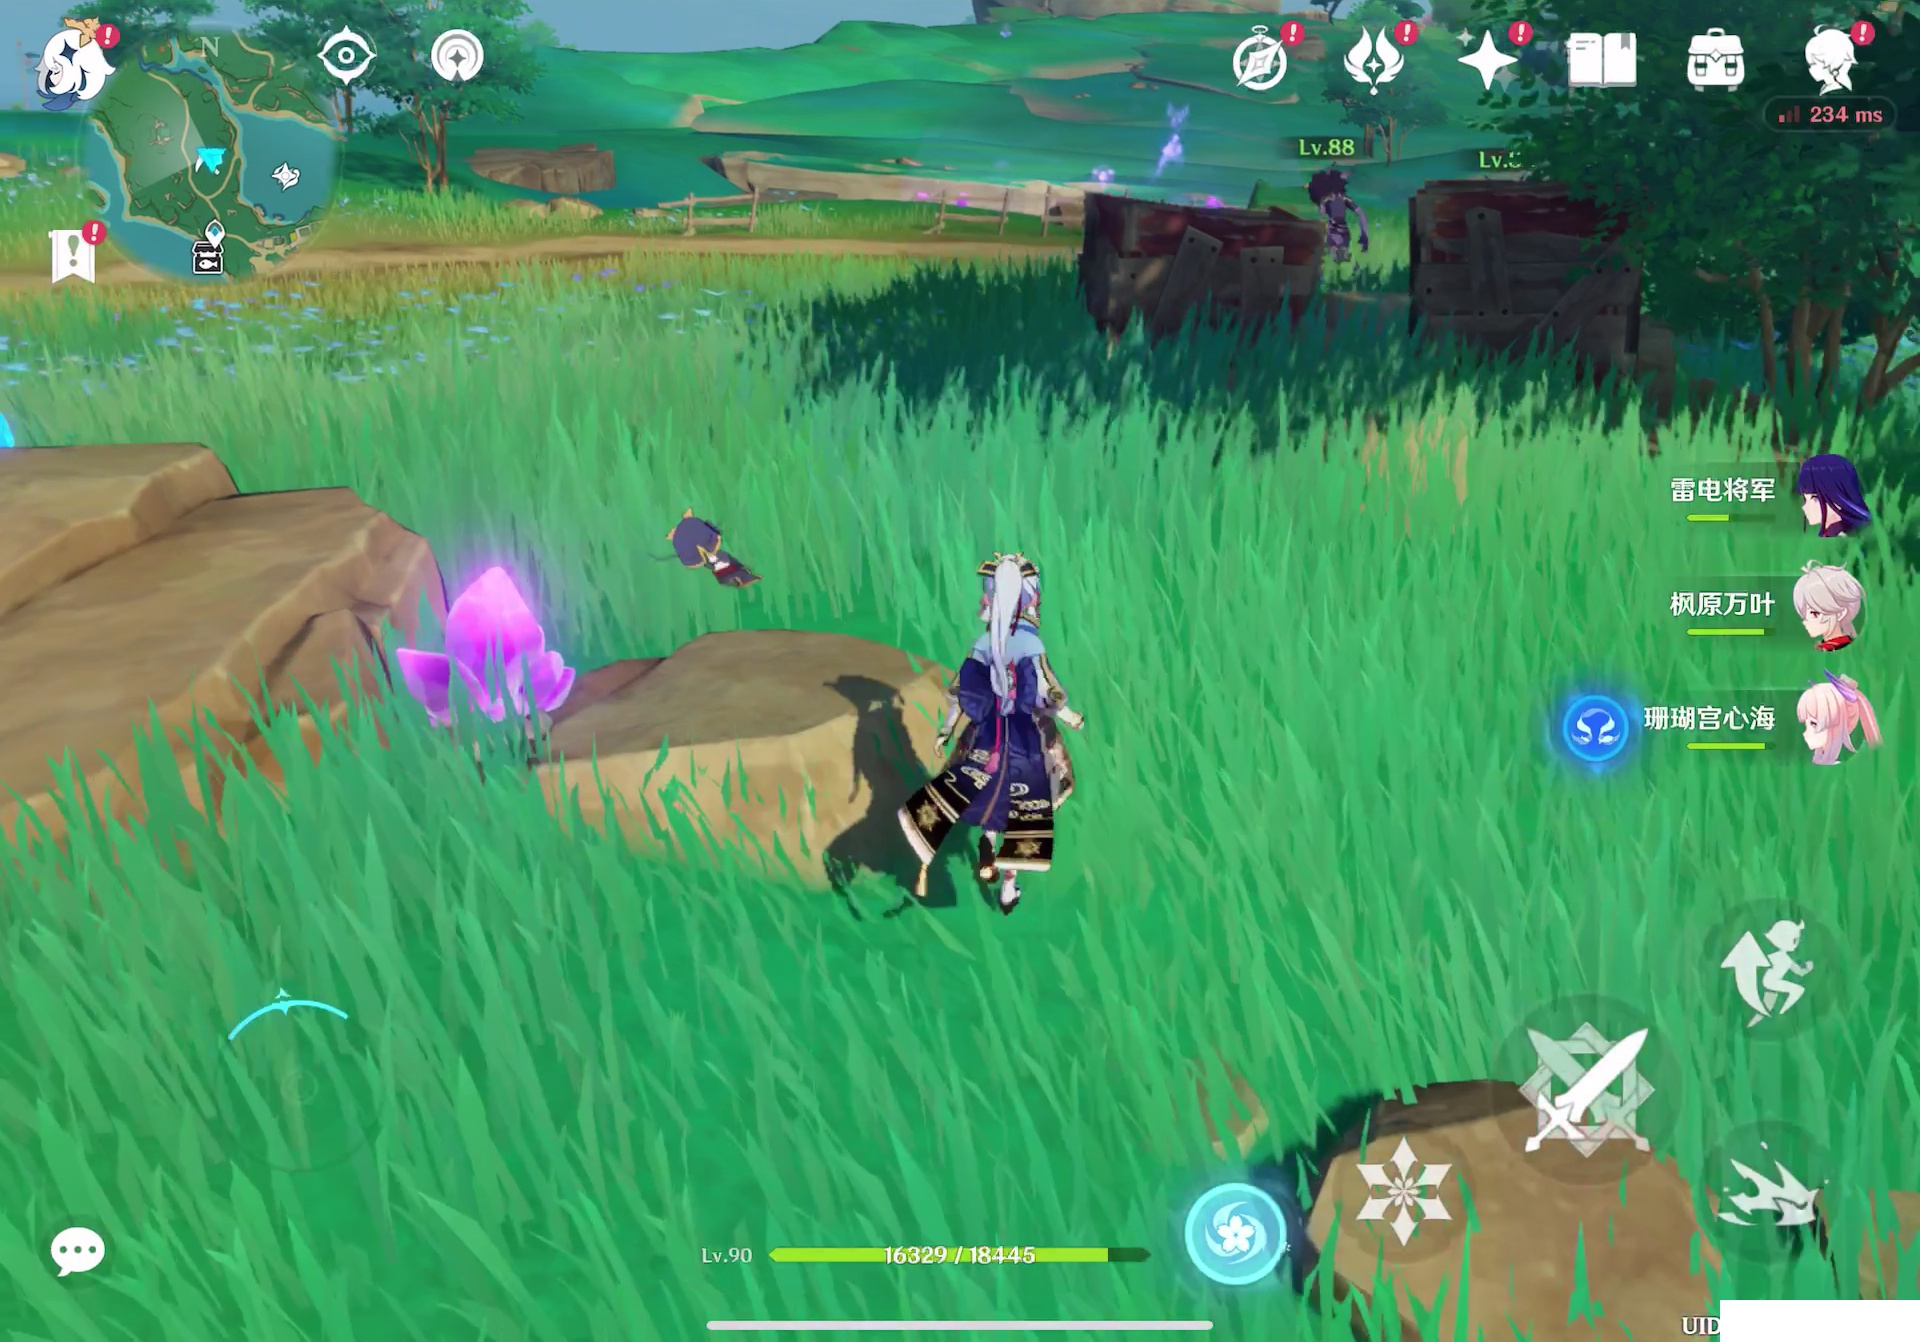丘丘人: (1309, 171, 1380, 273)
神里绫龟: (932, 503, 1091, 912)
紫矿石: (397, 559, 570, 725)
